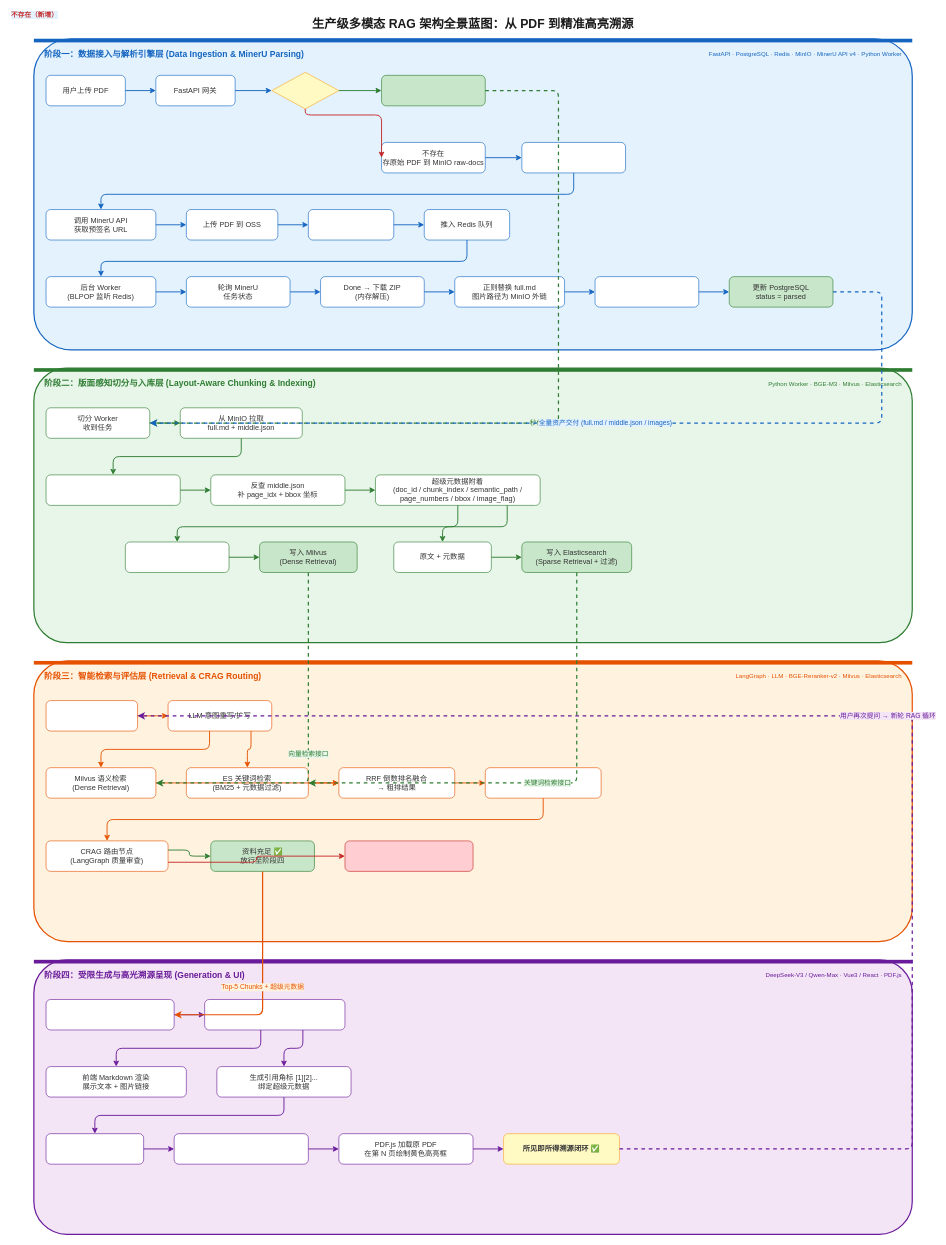
This 946x1245 diagram has some shape labels left out. Here are the shapes that lost their labels. From the top down, the centre of each, then its label:
[305,90]: MD5 查重
[433,90]: 已存在 直接返回 MinIO 路径
[573,157]: PostgreSQL 创建 pending 记录
[351,224]: 获取 batch_id
[646,291]: 全量写入 MinIO parsed-data 目录
[112,489]: Markdown 标题层级 (H1/H2/H3) 切分语义块
[177,556]: BGE-M3 向量化
[91,715]: 用户输入问题
[543,782]: BGE-Reranker-v2 精细重排 → Top-5
[408,855]: 资料不足 ❌ WebSearch 补充 / 拒答
[109,1014]: 组装 Prompt 用户问题 + Top-5 Chunks
[274,1014]: LLM 严格基于 Context 生成 (DeepSeek-V3/Qwen-Max)
[94,1148]: 用户点击角标 [1]
[241,1148]: 前端解析超级元数据 (page_numbers + bbox)
